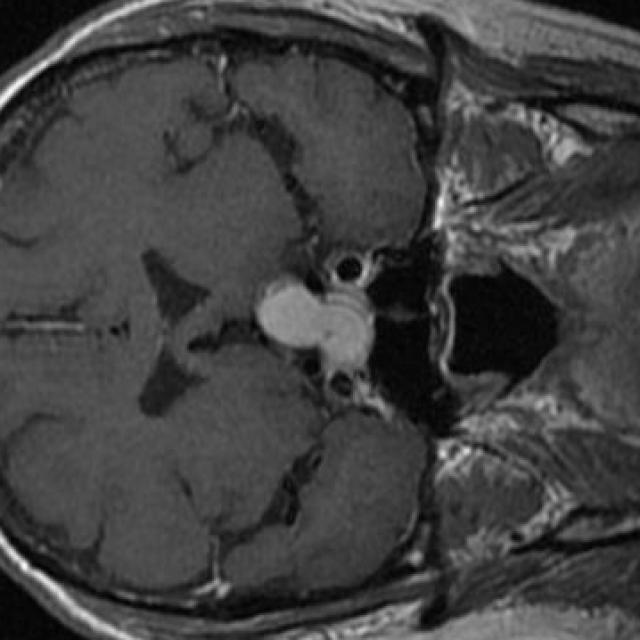pituitary: (253, 278, 376, 367)
